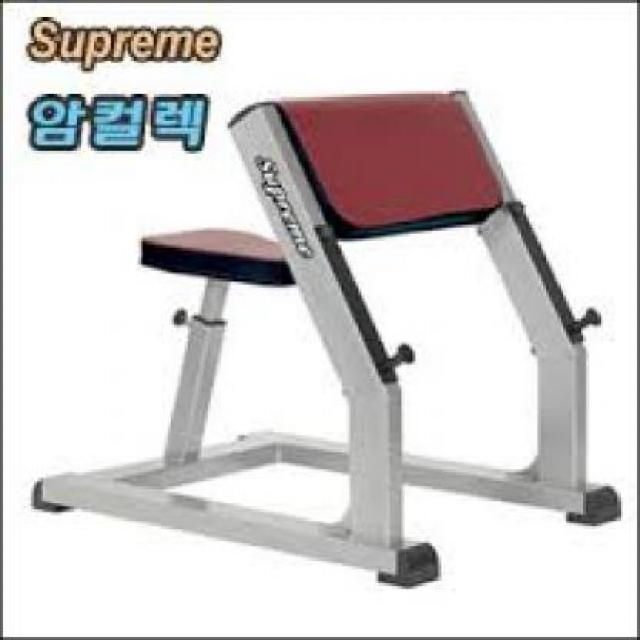arm curl machine: (34, 92, 623, 590)
